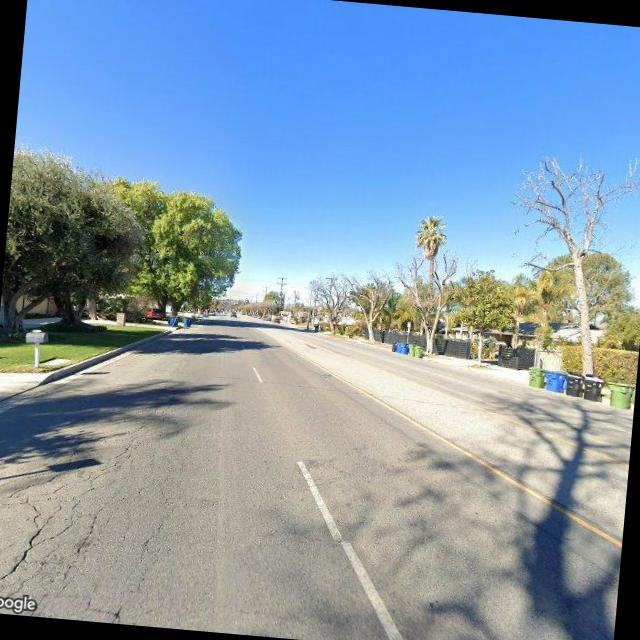crack: (0, 385, 187, 625)
